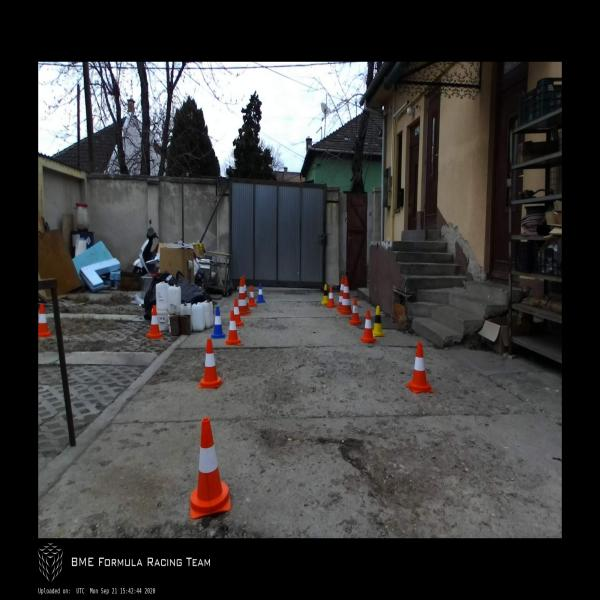blue_cone: (211, 306, 225, 338), (257, 283, 264, 303)
large_orange_cone: (339, 277, 352, 315), (238, 278, 250, 316), (336, 276, 345, 312), (241, 276, 250, 312)
orange_cone: (190, 416, 231, 519), (406, 342, 433, 393), (198, 338, 223, 389), (225, 310, 241, 346), (147, 305, 163, 339), (360, 310, 376, 343), (38, 304, 51, 337), (349, 296, 362, 324), (234, 299, 244, 326), (248, 285, 257, 306), (327, 286, 335, 307)
yellow_cone: (372, 305, 385, 337), (321, 284, 328, 304)
